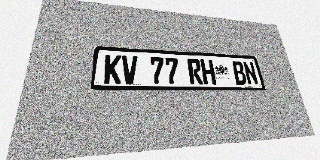7: (149, 57, 165, 84), (164, 57, 180, 84)
B: (231, 61, 248, 85)
H: (200, 59, 217, 85)
K: (104, 54, 121, 84)
N: (242, 61, 259, 85)
R: (187, 59, 203, 85)
V: (121, 55, 138, 84)
